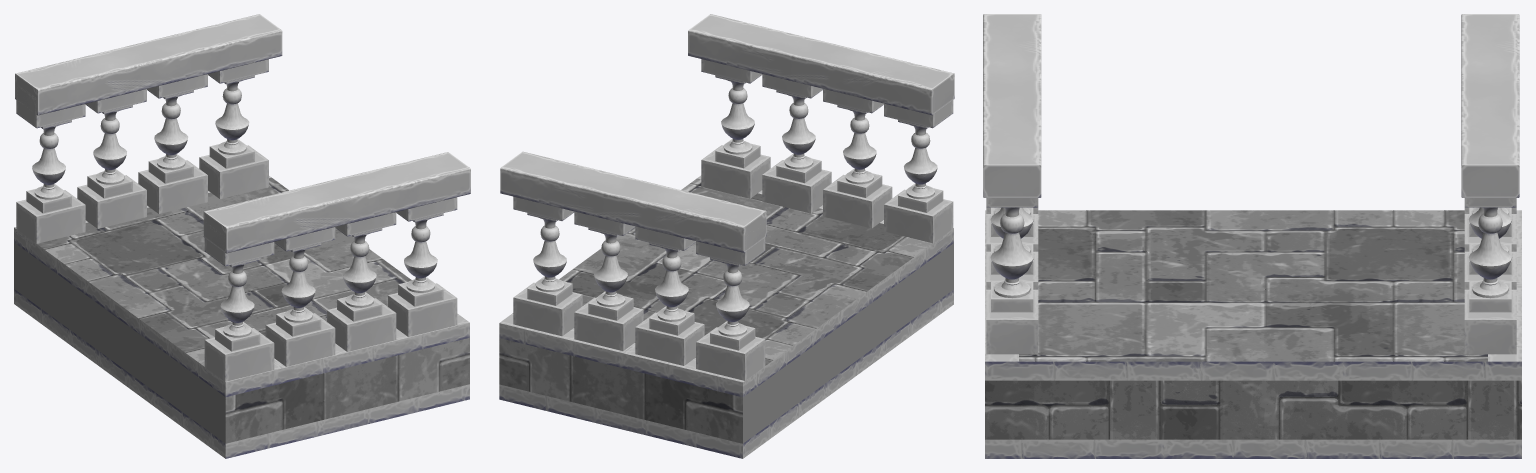
File: Puente_balostres_Paso.fbx
The picture shows the model from 3 angles, left to right: view 1: azimuth 30°, elevation 25°; view 2: azimuth 150°, elevation 25°; view 3: azimuth 270°, elevation 25°; orthographic projection. The views are drawn at different scales.
Parts seen in each view (by area): view 1: Puente_Balostres_paso_LOD0; view 2: Puente_Balostres_paso_LOD0; view 3: Puente_Balostres_paso_LOD0.
Boxes of the visible parts, box(x1,y1,x2,y2) form: Puente_Balostres_paso_LOD0: box(14, 14, 470, 458); Puente_Balostres_paso_LOD0: box(499, 14, 954, 458); Puente_Balostres_paso_LOD0: box(983, 14, 1521, 458).
Size of what is drawn, in the model's own units: 200 by 181 by 301.
